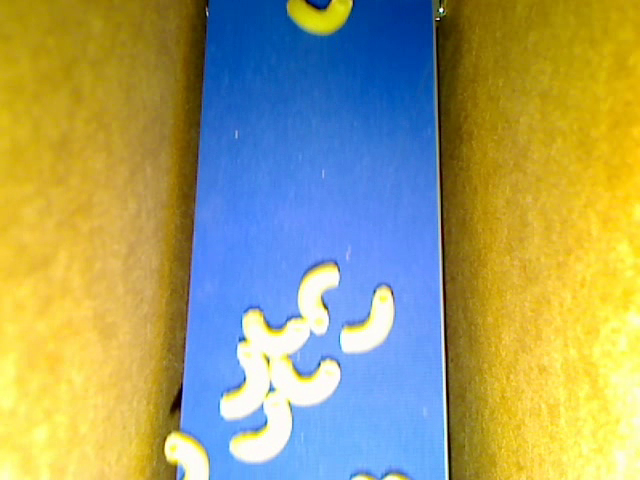elbow: (230, 392, 293, 463), (218, 340, 271, 420), (339, 282, 395, 354), (267, 355, 341, 408), (240, 307, 310, 356), (297, 260, 341, 335), (287, 1, 354, 37), (165, 431, 210, 479)
